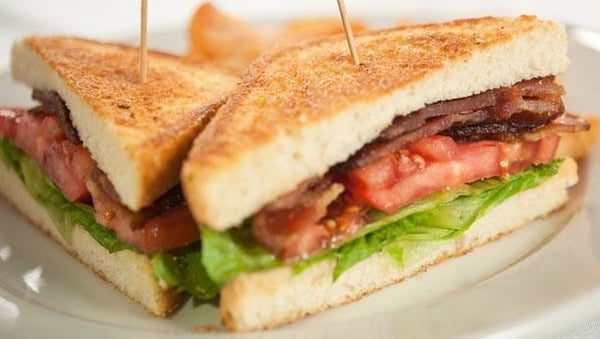soup: (165, 14, 587, 331), (0, 33, 245, 318)
